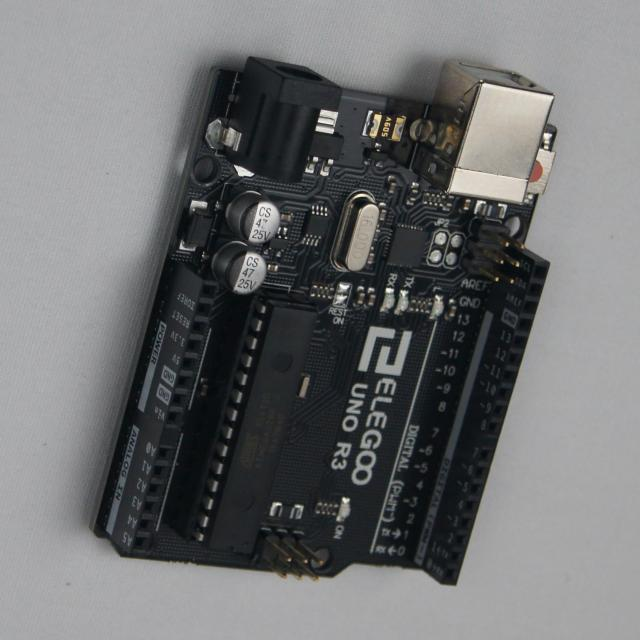Arduino Uno -Black-: (97, 58, 557, 585)
